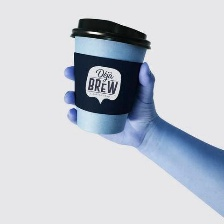paper_cup: (66, 13, 154, 138)
